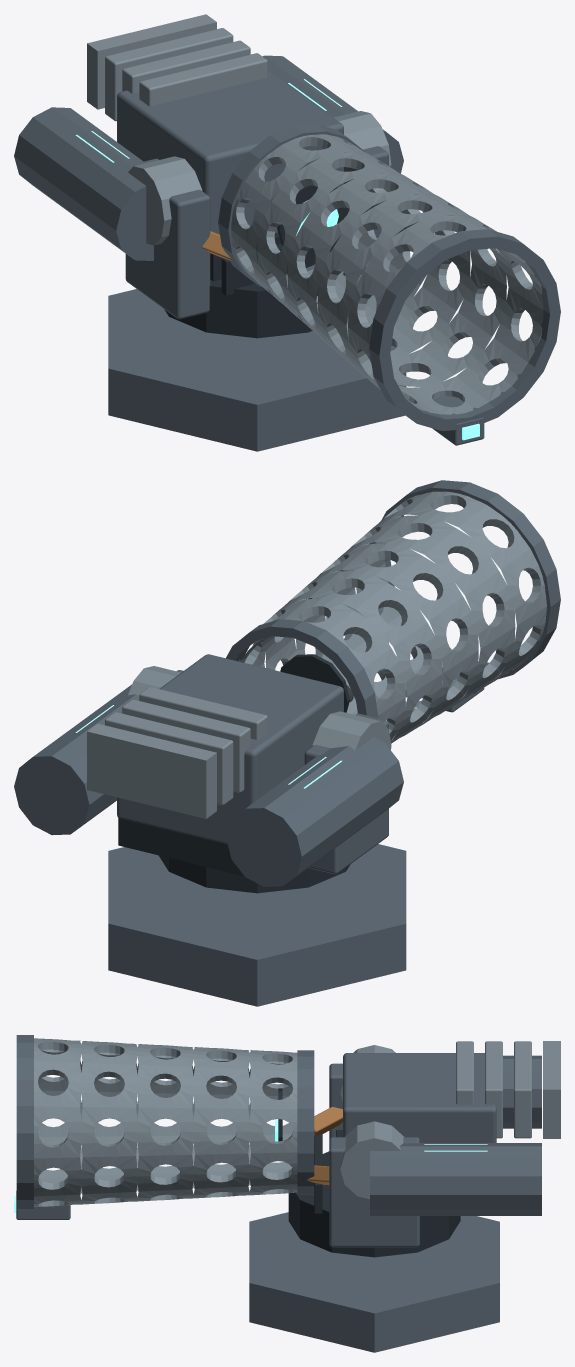
File: plasma_t3_d0.meshopt.glb
3 views of the same model, one above another, from view 1: azimuth 30°, elevation 25°; view 2: azimuth 150°, elevation 25°; view 3: azimuth 270°, elevation 25° (orthographic). The views are drawn at different scales.
Parts seen in each view (by area): view 1: RECOIL_ARMOR_GEOMETRY, BASE_ARMOR_GEOMETRY, YAW_ARMOR_GEOMETRY, RECOIL_SIGNAL_GEOMETRY; view 2: RECOIL_ARMOR_GEOMETRY, BASE_ARMOR_GEOMETRY, YAW_ARMOR_GEOMETRY; view 3: RECOIL_ARMOR_GEOMETRY, BASE_ARMOR_GEOMETRY, YAW_ARMOR_GEOMETRY.
Boxes of the visible parts, x1,y1,x2,y2 form: RECOIL_ARMOR_GEOMETRY: [14, 14, 560, 445]; BASE_ARMOR_GEOMETRY: [108, 289, 406, 451]; YAW_ARMOR_GEOMETRY: [125, 146, 388, 338]; RECOIL_SIGNAL_GEOMETRY: [75, 79, 479, 440]; RECOIL_ARMOR_GEOMETRY: [14, 480, 560, 886]; BASE_ARMOR_GEOMETRY: [108, 844, 406, 1006]; YAW_ARMOR_GEOMETRY: [158, 670, 388, 893]; RECOIL_ARMOR_GEOMETRY: [16, 1035, 560, 1219]; BASE_ARMOR_GEOMETRY: [249, 1212, 499, 1352]; YAW_ARMOR_GEOMETRY: [288, 1063, 460, 1257].
Bounding box in the file's own units: 1.6 × 1.52 × 3.02.
